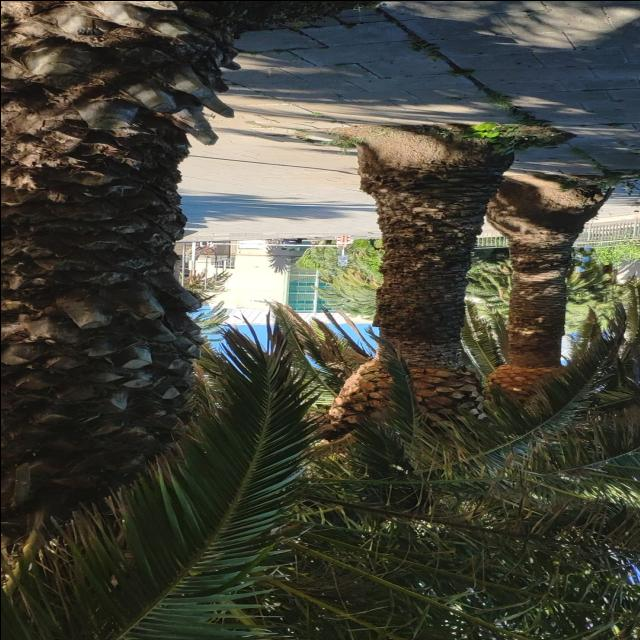Palm-Trees: (263, 113, 555, 632)
